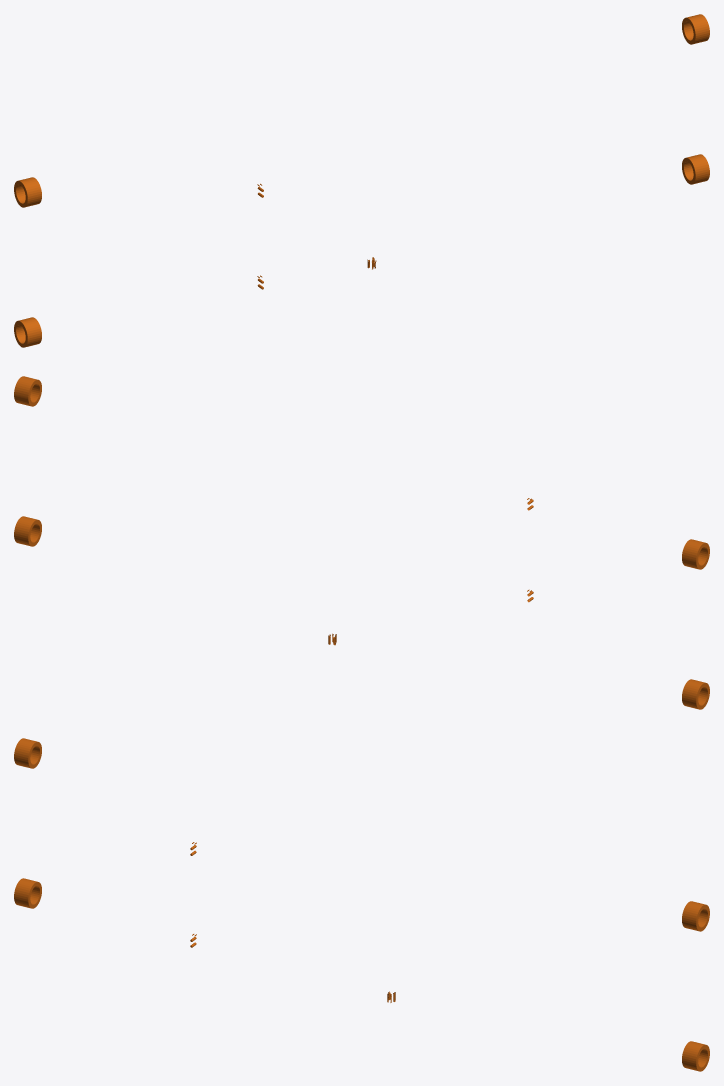
The model's file is torso_2.obj.
3 renders of one model, top to bottom at view 1: azimuth 30°, elevation 25°; view 2: azimuth 150°, elevation 25°; view 3: azimuth 330°, elevation 25°, orthographic.
Bounding box in the file's own units: 0.571 × 0.1453 × 0.0682.
